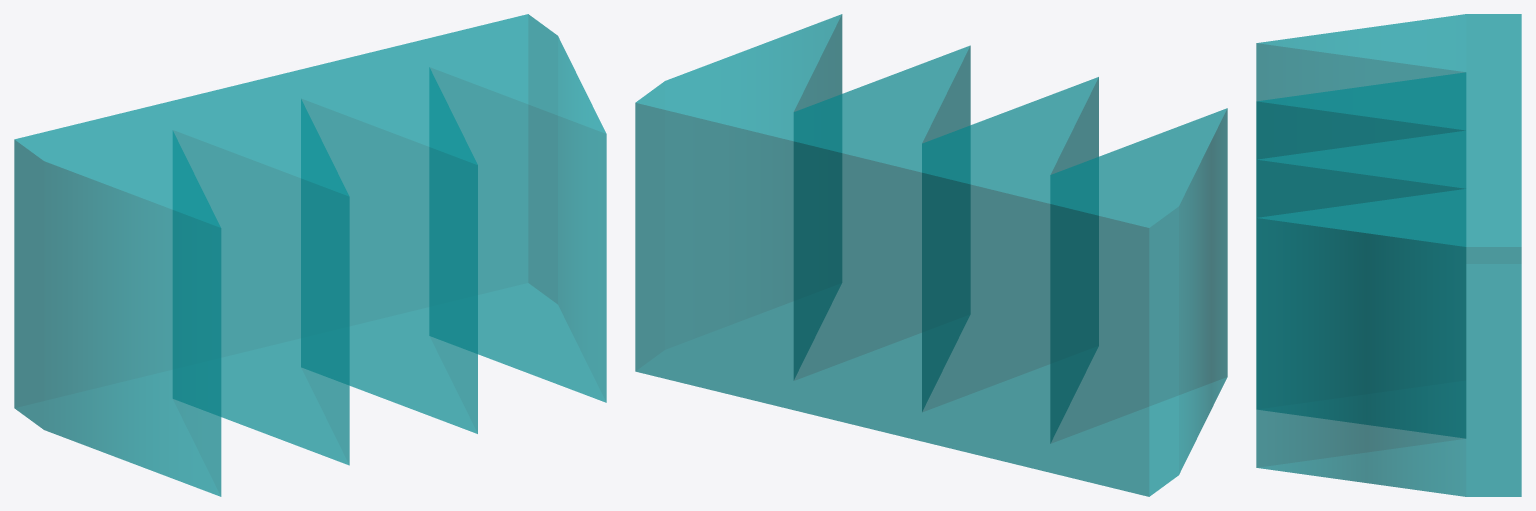
File: toge2d.fbx
3 views of the same model, side by side, from view 1: azimuth 30°, elevation 25°; view 2: azimuth 150°, elevation 25°; view 3: azimuth 270°, elevation 25° (orthographic). The views are drawn at different scales.
Parts seen in each view (by area): view 1: 立方体.006; view 2: 立方体.006; view 3: 立方体.006.
Part boxes in pixels (x1,y1,x2,y2): 立方体.006: (14,14,606,496); 立方体.006: (635,14,1227,496); 立方体.006: (1256,14,1521,496).
Size of the model in its own units: 2000 by 1000 by 961.
